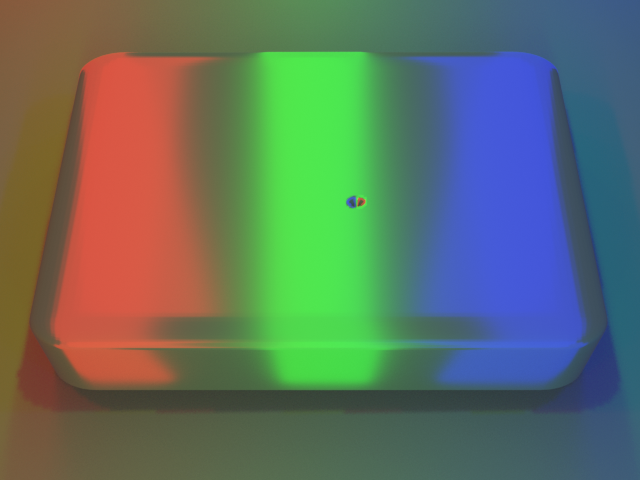dent: (336, 183, 379, 224)
